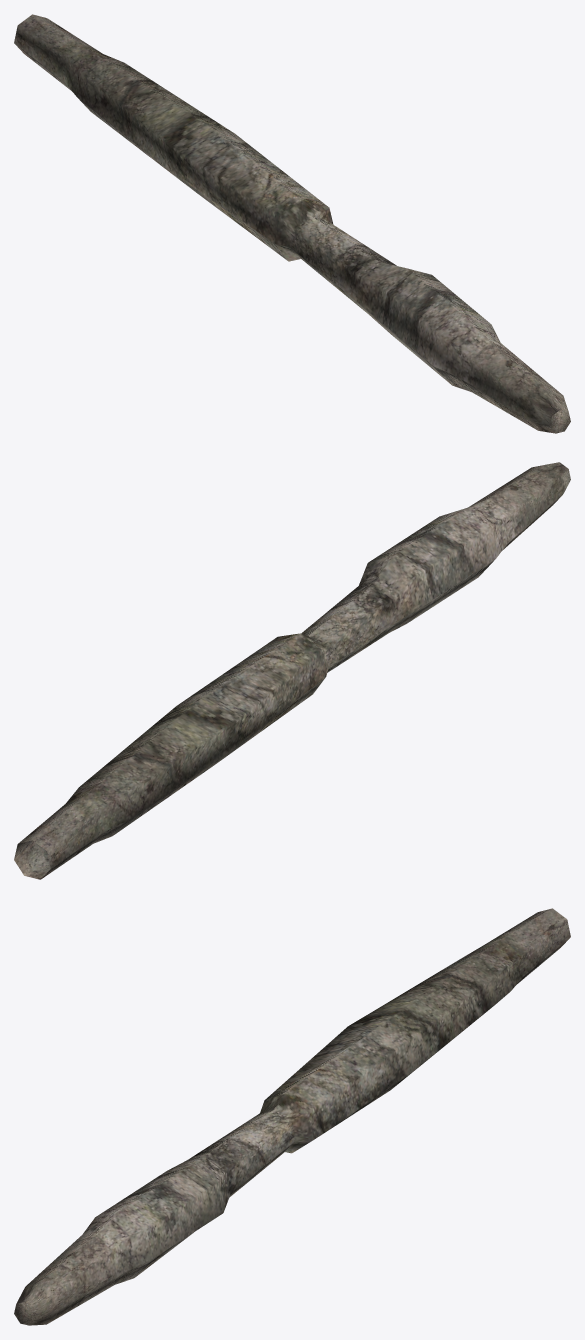
File: tdr_h_stag_d.obj
The picture shows the model from 3 angles, top to bottom: view 1: azimuth 30°, elevation 25°; view 2: azimuth 150°, elevation 25°; view 3: azimuth 330°, elevation 25°; orthographic projection.
Visible parts, largest first — view 1: tdr_h_stag_d; view 2: tdr_h_stag_d; view 3: tdr_h_stag_d.
Boxes of the visible parts, x1,y1,x2,y2 form: tdr_h_stag_d: [14, 14, 570, 433]; tdr_h_stag_d: [14, 462, 570, 879]; tdr_h_stag_d: [14, 908, 570, 1325].
Bounding box in the file's own units: 186 × 170 × 2438.
1 material, 1 textured.
